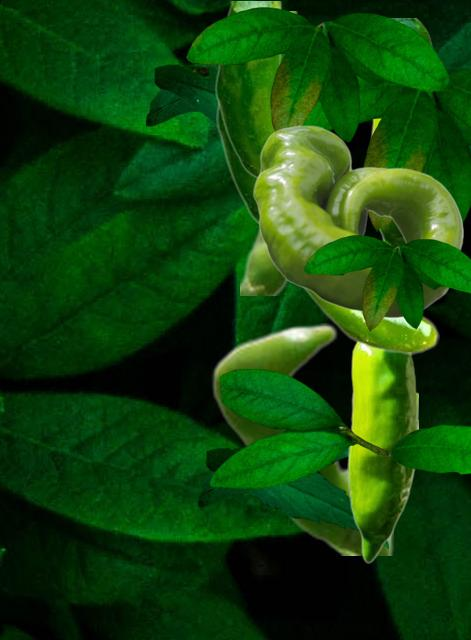green_chili: (216, 11, 438, 354), (211, 323, 392, 554), (253, 125, 462, 317), (347, 342, 417, 562), (368, 18, 435, 246), (215, 1, 284, 178), (240, 224, 289, 294)
